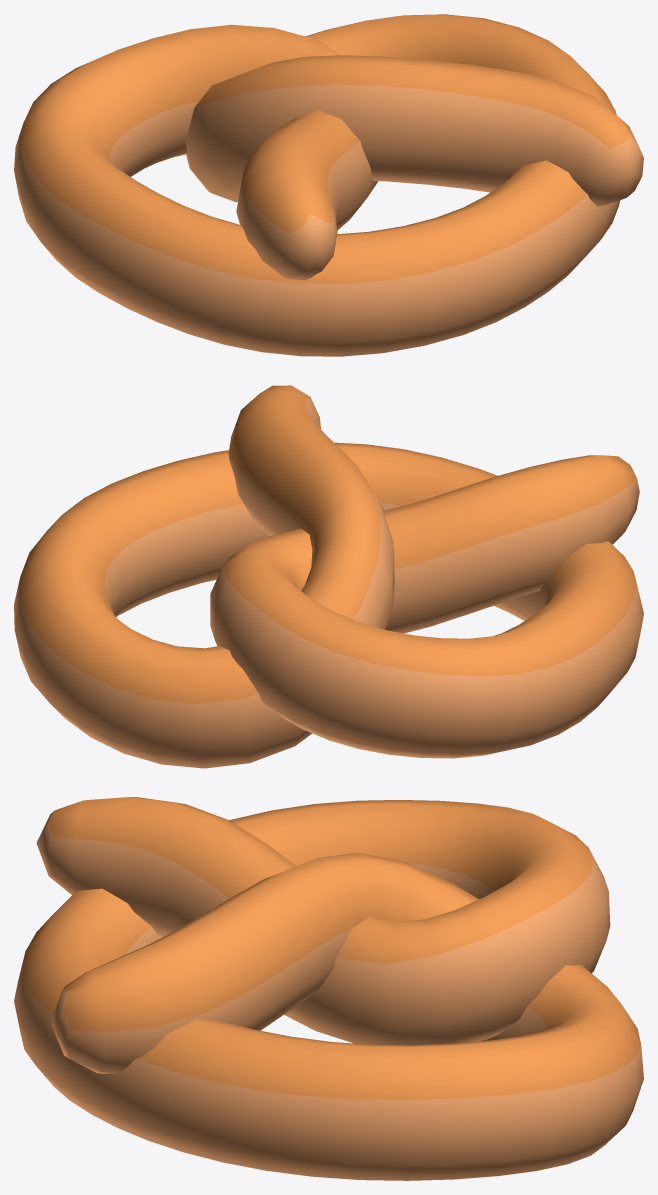
File: Pretzel_02.fbx
3 renders of one model, top to bottom at view 1: azimuth 30°, elevation 25°; view 2: azimuth 150°, elevation 25°; view 3: azimuth 270°, elevation 25°, orthographic. The views are drawn at different scales.
Parts seen in each view (by area): view 1: Pretzel_02_LOD0; view 2: Pretzel_02_LOD0; view 3: Pretzel_02_LOD0.
Part boxes in pixels (x1=…): Pretzel_02_LOD0: x1=14, y1=14, x2=643, y2=356; Pretzel_02_LOD0: x1=14, y1=385, x2=643, y2=768; Pretzel_02_LOD0: x1=14, y1=797, x2=643, y2=1180.
Size of what is drawn, in the model's own units: 534 by 201 by 488.
